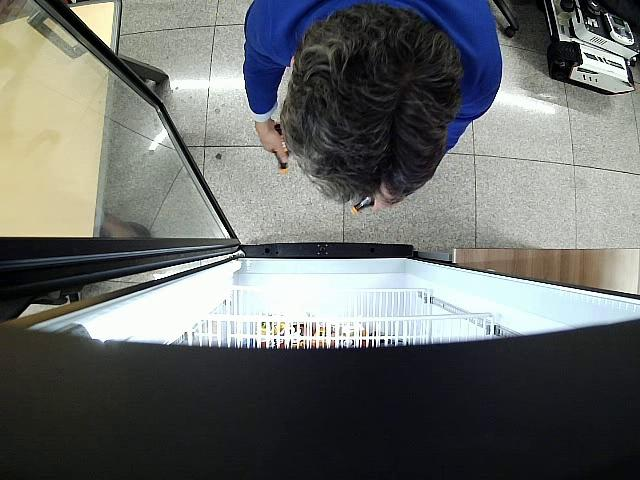00_hand: (257, 120, 288, 166)
17_vita500: (274, 127, 289, 174), (351, 196, 374, 214)
